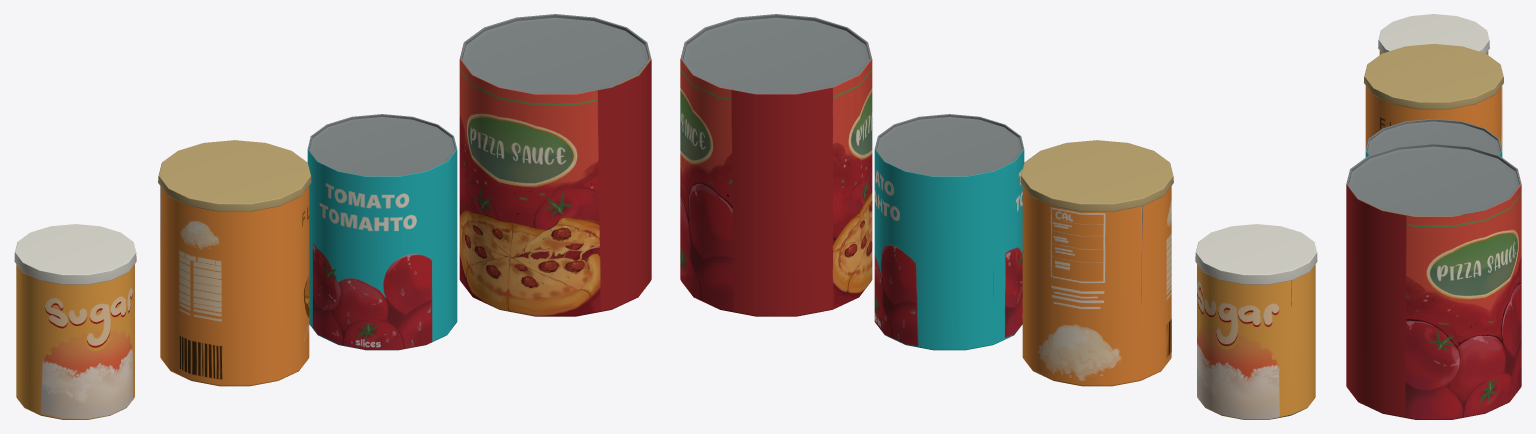
File: pizza_sauce.glb
The picture shows the model from 3 angles, left to right: view 1: azimuth 30°, elevation 25°; view 2: azimuth 150°, elevation 25°; view 3: azimuth 270°, elevation 25°; orthographic projection. The views are drawn at different scales.
Visible parts, largest first — view 1: sauce_pizza, sauce_flowa, sauce_tomato, sauce_sugar; view 2: sauce_pizza, sauce_flowa, sauce_tomato, sauce_sugar; view 3: sauce_pizza, sauce_flowa, sauce_sugar, sauce_tomato.
Part boxes in pixels (bbox=[...]): sauce_pizza: bbox=[459, 14, 651, 316]; sauce_flowa: bbox=[158, 140, 311, 386]; sauce_tomato: bbox=[307, 114, 457, 350]; sauce_sugar: bbox=[14, 224, 136, 419]; sauce_pizza: bbox=[680, 14, 872, 316]; sauce_flowa: bbox=[1020, 140, 1173, 386]; sauce_tomato: bbox=[874, 114, 1024, 350]; sauce_sugar: bbox=[1195, 224, 1317, 419]; sauce_pizza: bbox=[1346, 143, 1521, 419]; sauce_flowa: bbox=[1364, 44, 1503, 149]; sauce_sugar: bbox=[1378, 14, 1489, 54]; sauce_tomato: bbox=[1365, 118, 1502, 157].
Size of the model in its own units: 0.6628 by 0.2312 by 0.179.
2 materials, 2 textured.
